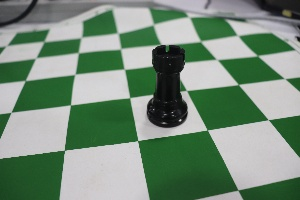black_rook: (136, 32, 198, 135)
